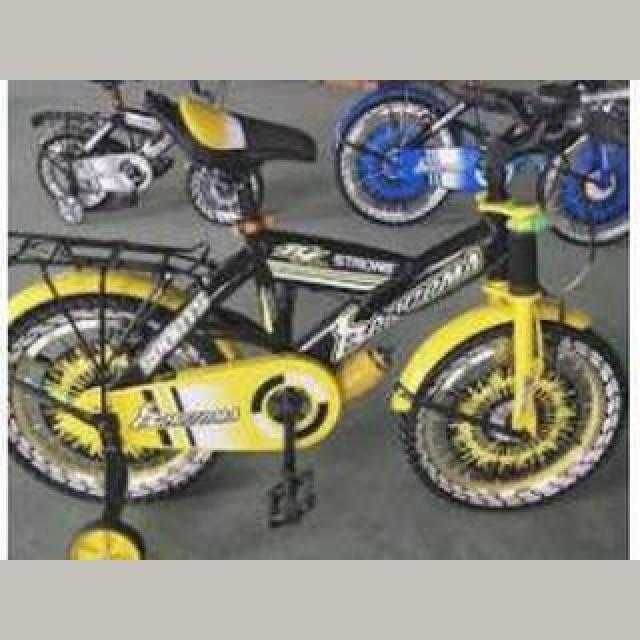Person: (6, 102, 630, 560), (340, 84, 632, 254), (36, 82, 314, 226)
